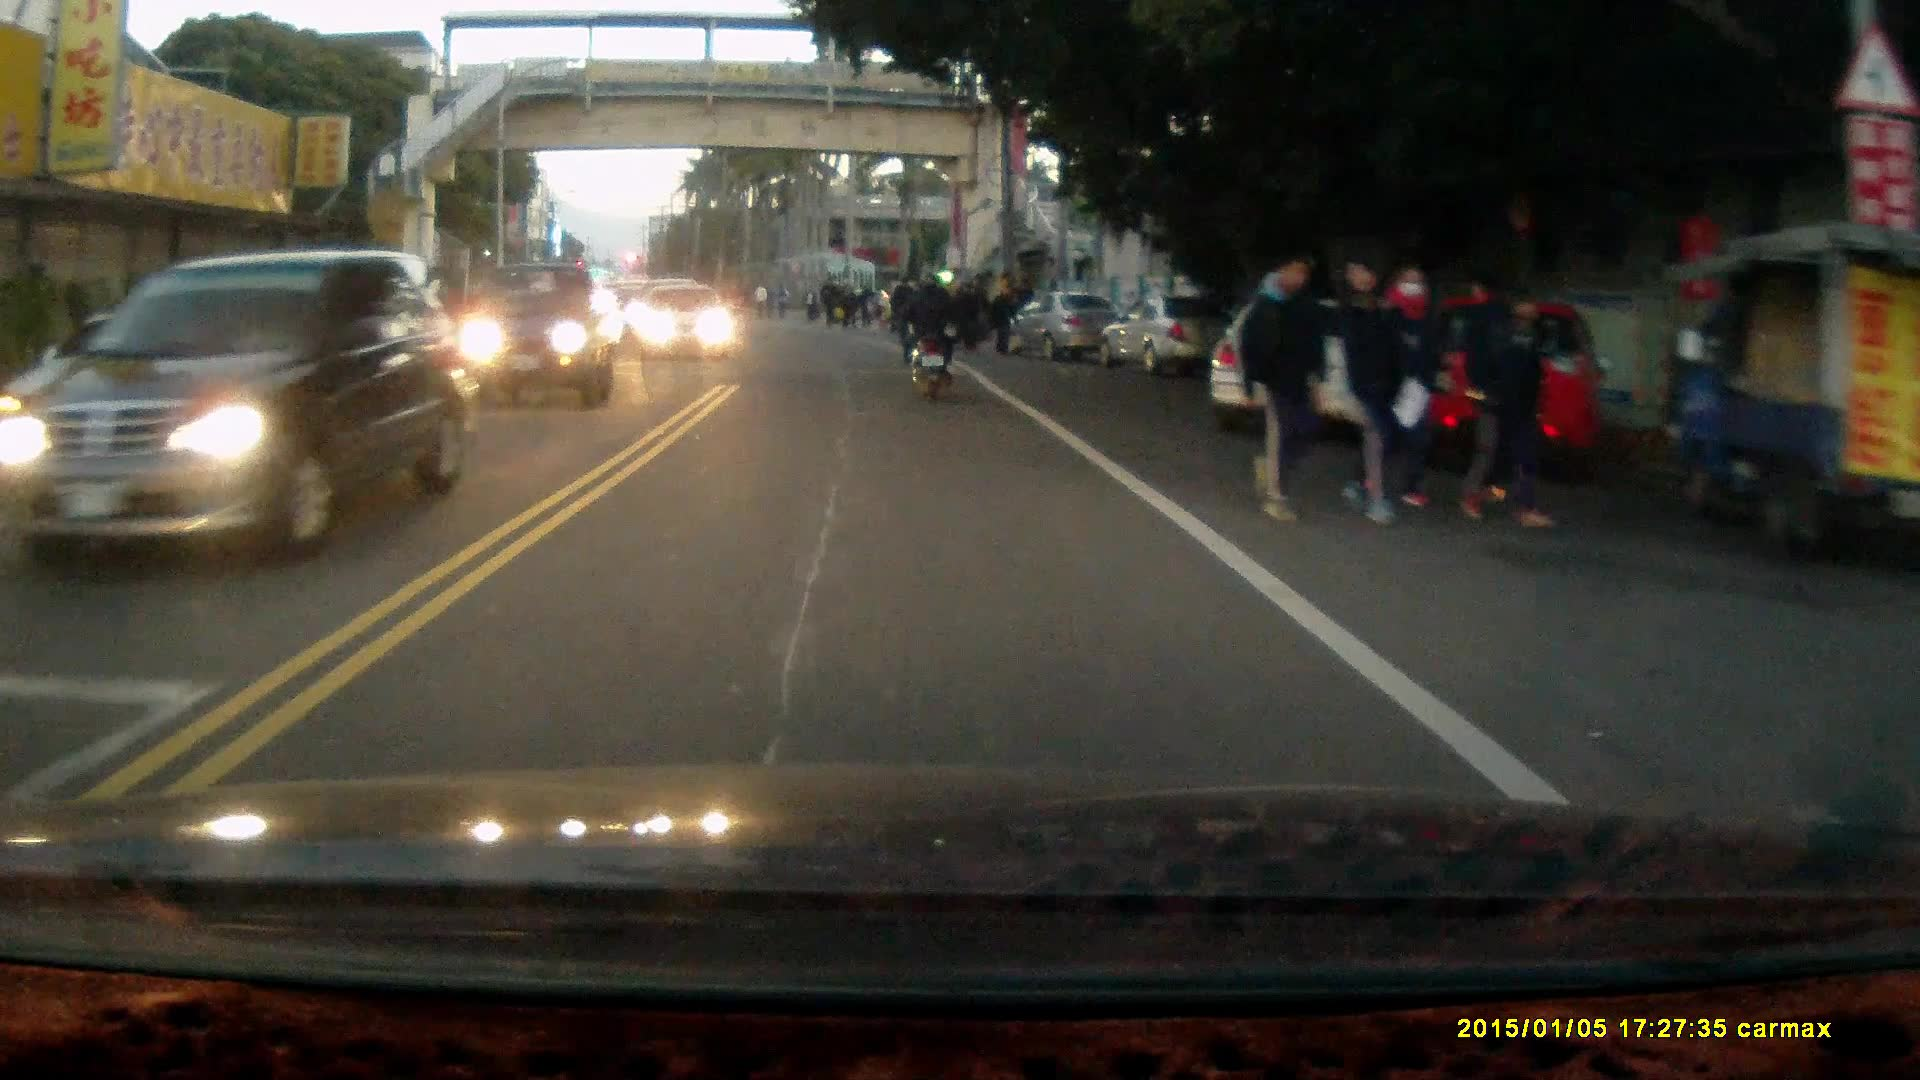pedestrian: (1233, 240, 1331, 528), (1332, 254, 1412, 531), (1474, 283, 1557, 532), (1370, 258, 1451, 507), (962, 269, 991, 351), (987, 282, 1015, 351), (952, 277, 976, 353)
rider: (890, 268, 958, 403)
vehicle: (36, 248, 452, 578), (1363, 286, 1611, 483), (1205, 285, 1425, 434), (462, 265, 619, 409), (1104, 289, 1223, 374), (1006, 291, 1128, 360), (641, 284, 737, 362)
